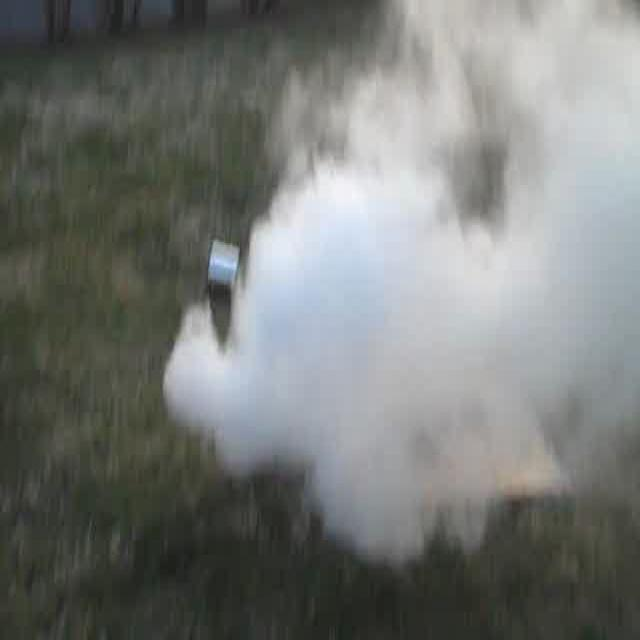Smoke: (219, 8, 632, 525)
